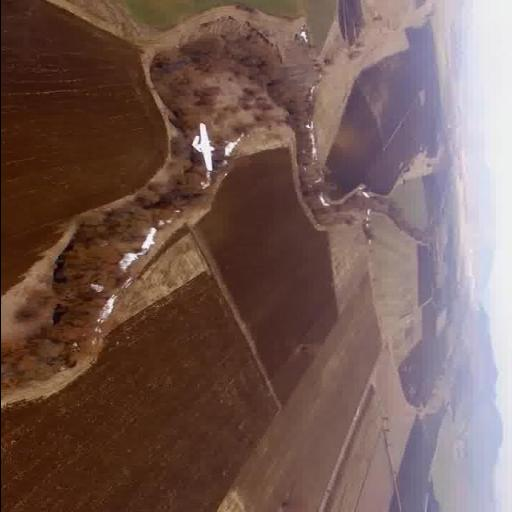uav: (176, 116, 230, 180)
